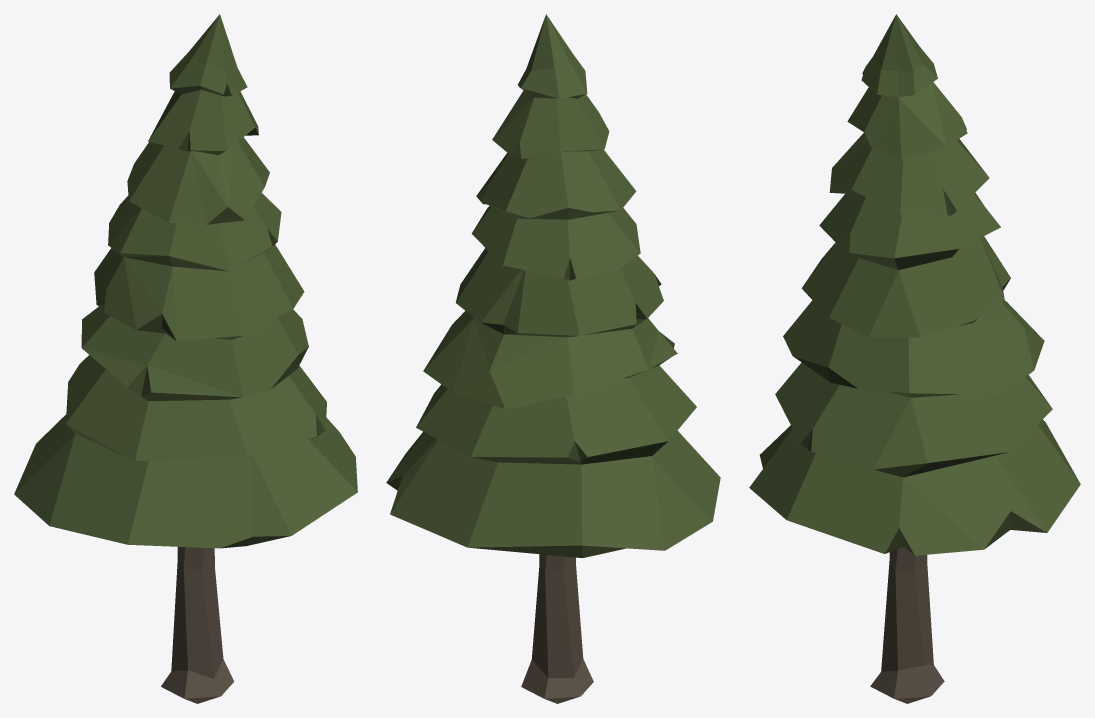
File: SM_Env_Tree_Pine_01.fbx
3 renders of one model, left to right at view 1: azimuth 30°, elevation 25°; view 2: azimuth 150°, elevation 25°; view 3: azimuth 270°, elevation 25°, orthographic. The views are drawn at different scales.
Visible parts, largest first — view 1: SM_Env_Tree_Pine_01; view 2: SM_Env_Tree_Pine_01; view 3: SM_Env_Tree_Pine_01.
Boxes of the visible parts, <box> form: SM_Env_Tree_Pine_01: <box>14,14,357,703</box>; SM_Env_Tree_Pine_01: <box>386,14,720,703</box>; SM_Env_Tree_Pine_01: <box>749,14,1080,703</box>.
Bounding box in the file's own units: 251 × 548 × 236.
